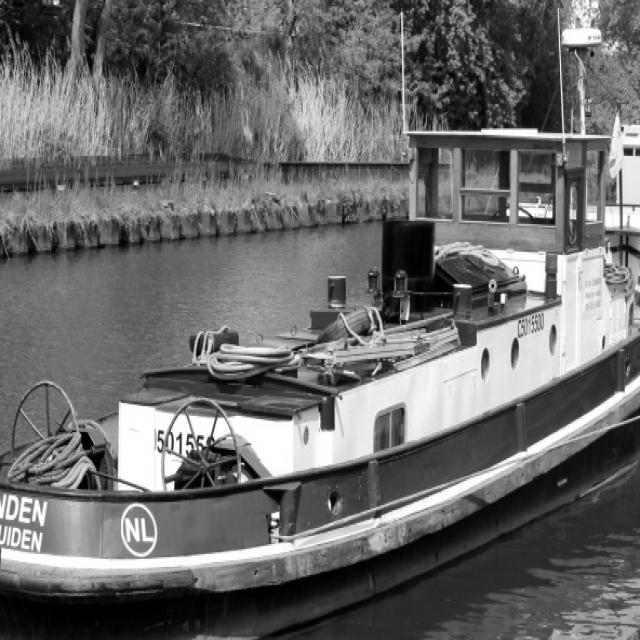tugboat: (1, 98, 640, 640)
